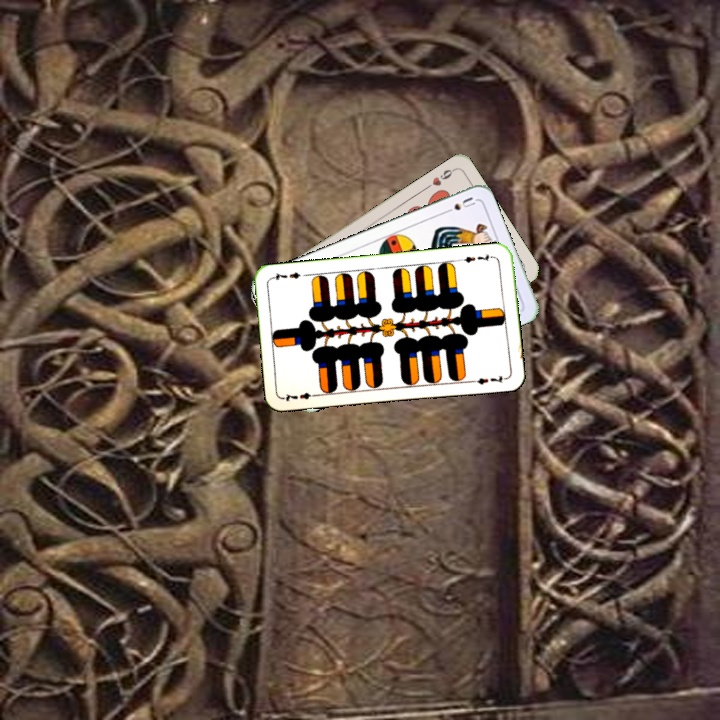E7: (280, 388, 321, 404), (456, 250, 497, 265)
H9: (422, 164, 458, 192)
SU: (439, 193, 478, 217)
